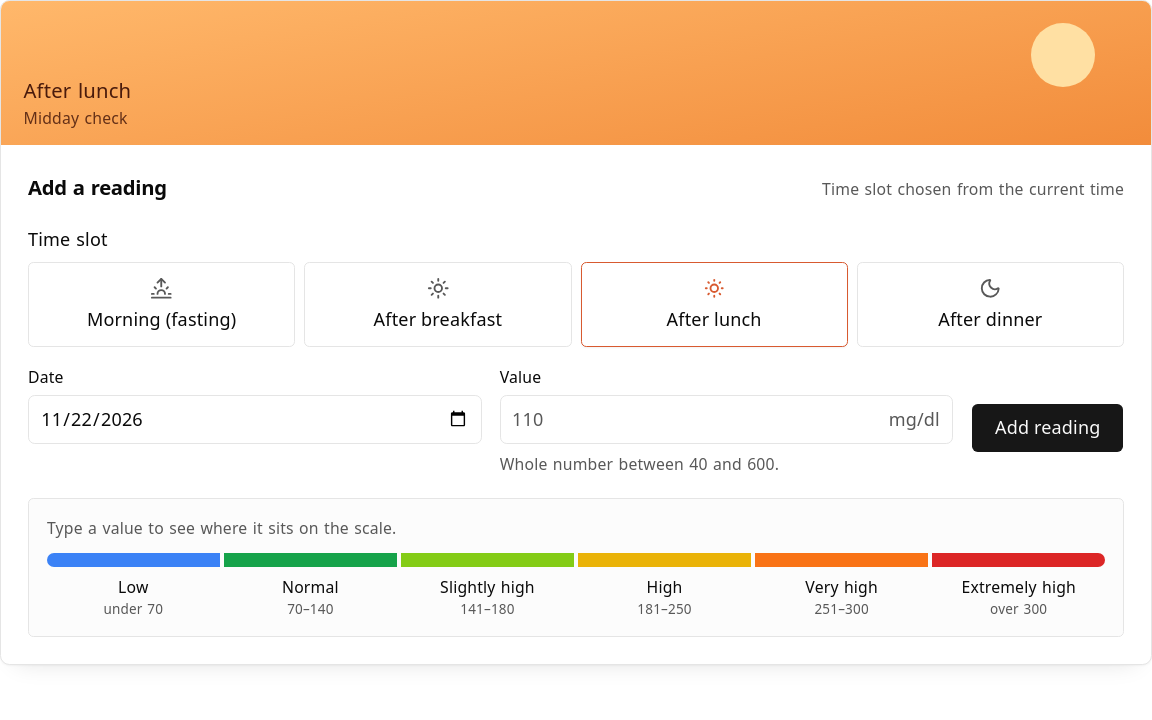
Test case: AddReadingCard: checks in the browser (no request is sent) › rejects 700 with the 40–600 message
This screenshot has width=1152, height=720.
In the field labelled "Value": (727, 419) [500,394,953,444], type "700"
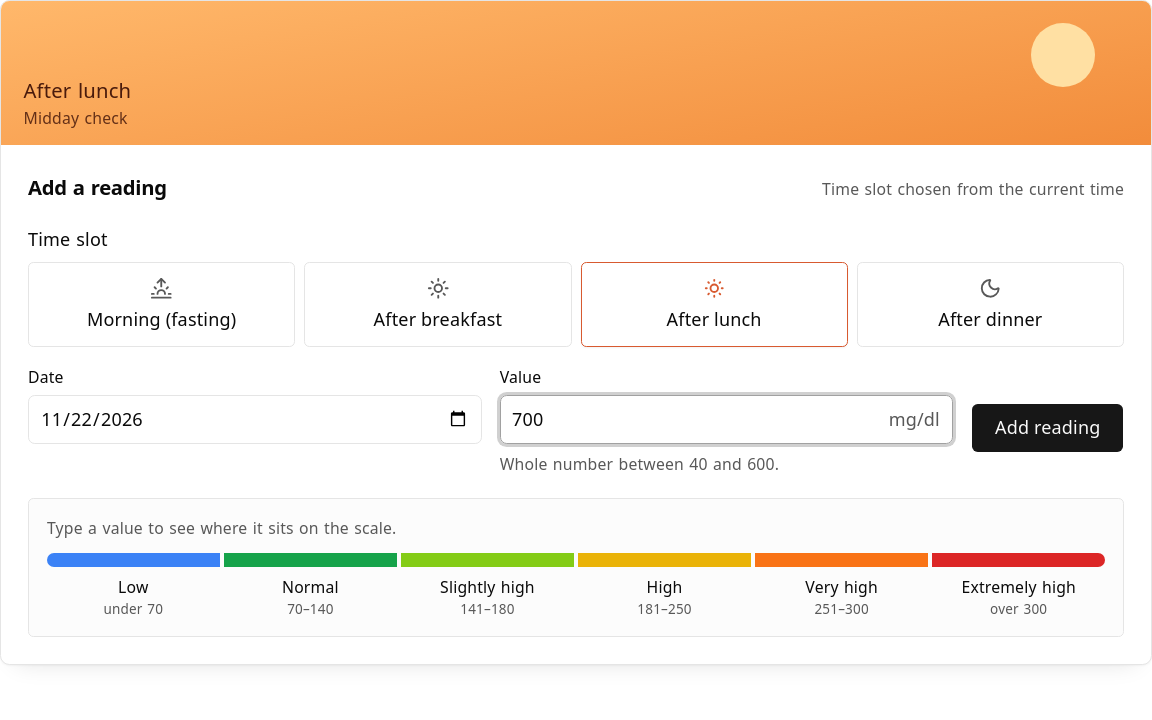
Click the button "Add reading": (1048, 428) [972,403,1124,452]
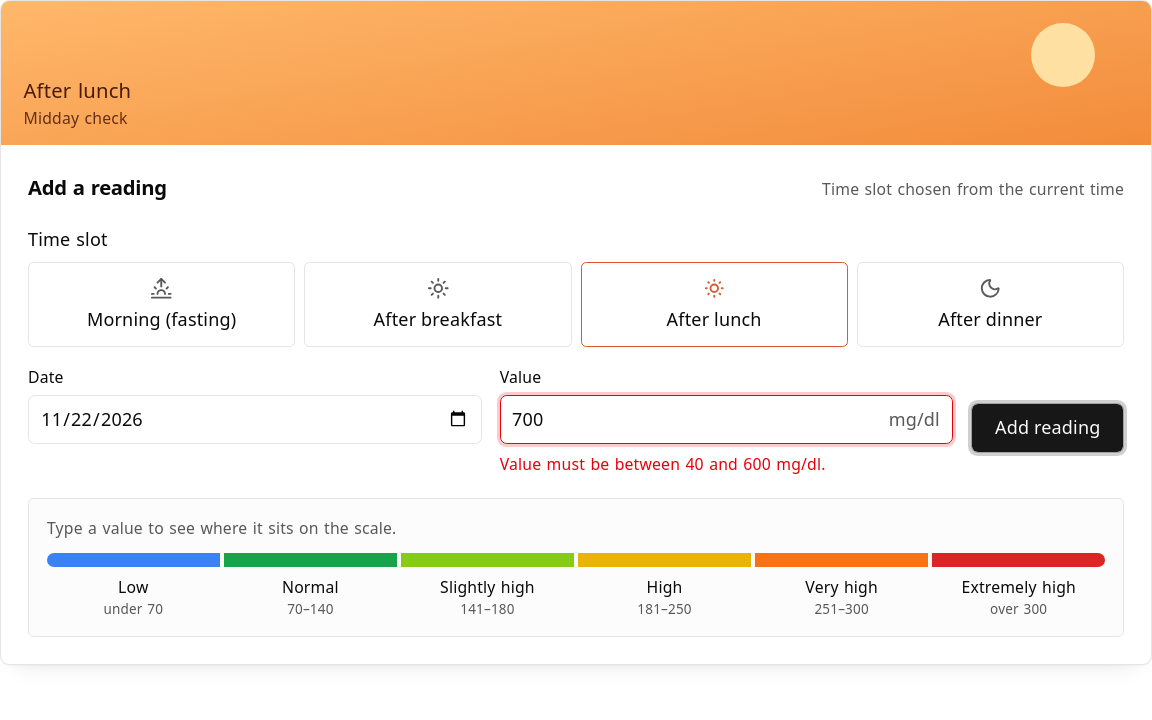
Result: the text "Value must be between 40 and 600 mg/dl." is shown at [500,453,826,475]
